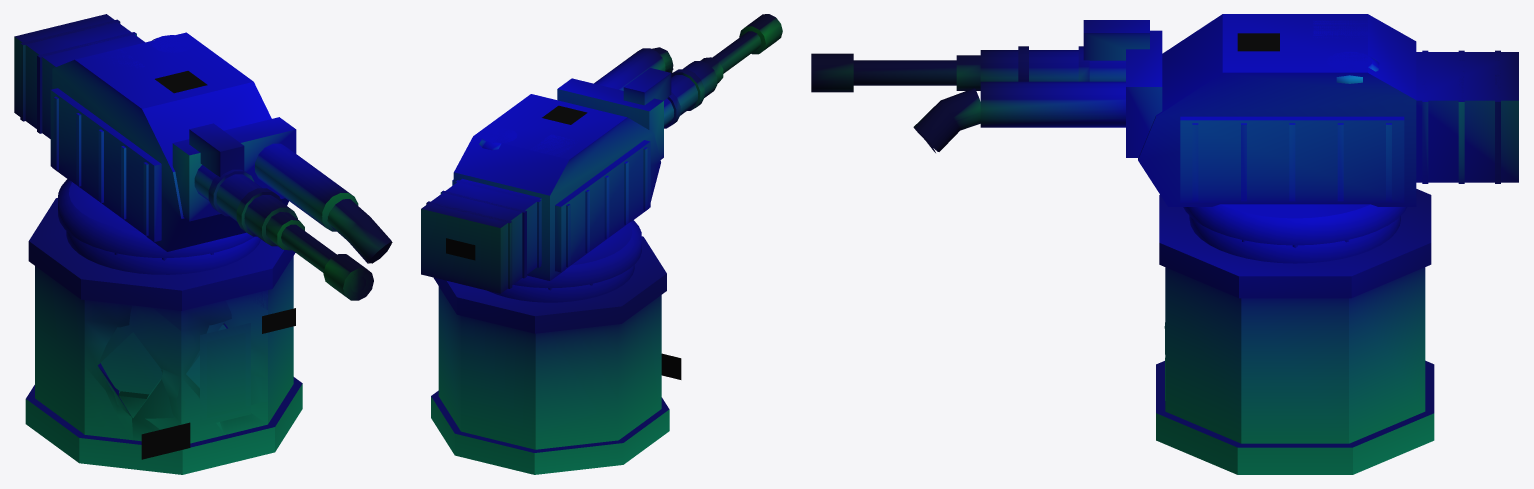
Rendered from mediumautocannonturret_damaged.glb.
3 views of the same model, side by side, from view 1: azimuth 30°, elevation 25°; view 2: azimuth 150°, elevation 25°; view 3: azimuth 270°, elevation 25° (orthographic). The views are drawn at different scales.
Visible parts, largest first — view 1: lod0_Base, lod0_Turret, lod0_Gun, lod1_Base, lod1_Turret, lod1_Gun; view 2: lod0_Base, lod0_Turret, lod0_Gun, lod1_Turret; view 3: lod0_Turret, lod0_Base, lod0_Gun, lod1_Turret.
Boxes of the visible parts, left/top/right/bottom form: lod0_Base: left=25, top=198, right=302, bottom=474; lod0_Turret: left=14, top=14, right=288, bottom=257; lod0_Gun: left=172, top=117, right=392, bottom=300; lod1_Base: left=84, top=290, right=267, bottom=441; lod1_Turret: left=59, top=183, right=233, bottom=257; lod1_Gun: left=194, top=167, right=388, bottom=300; lod0_Base: left=431, top=236, right=681, bottom=474; lod0_Turret: left=421, top=94, right=660, bottom=293; lod0_Gun: left=557, top=14, right=782, bottom=159; lod1_Turret: left=518, top=223, right=640, bottom=288; lod0_Turret: left=1138, top=14, right=1518, bottom=245; lod0_Base: left=1156, top=189, right=1434, bottom=474; lod0_Gun: left=811, top=20, right=1162, bottom=157; lod1_Turret: left=1195, top=204, right=1395, bottom=242.
Bounding box in the file's own units: 4.6 × 6.82 × 11.71.
